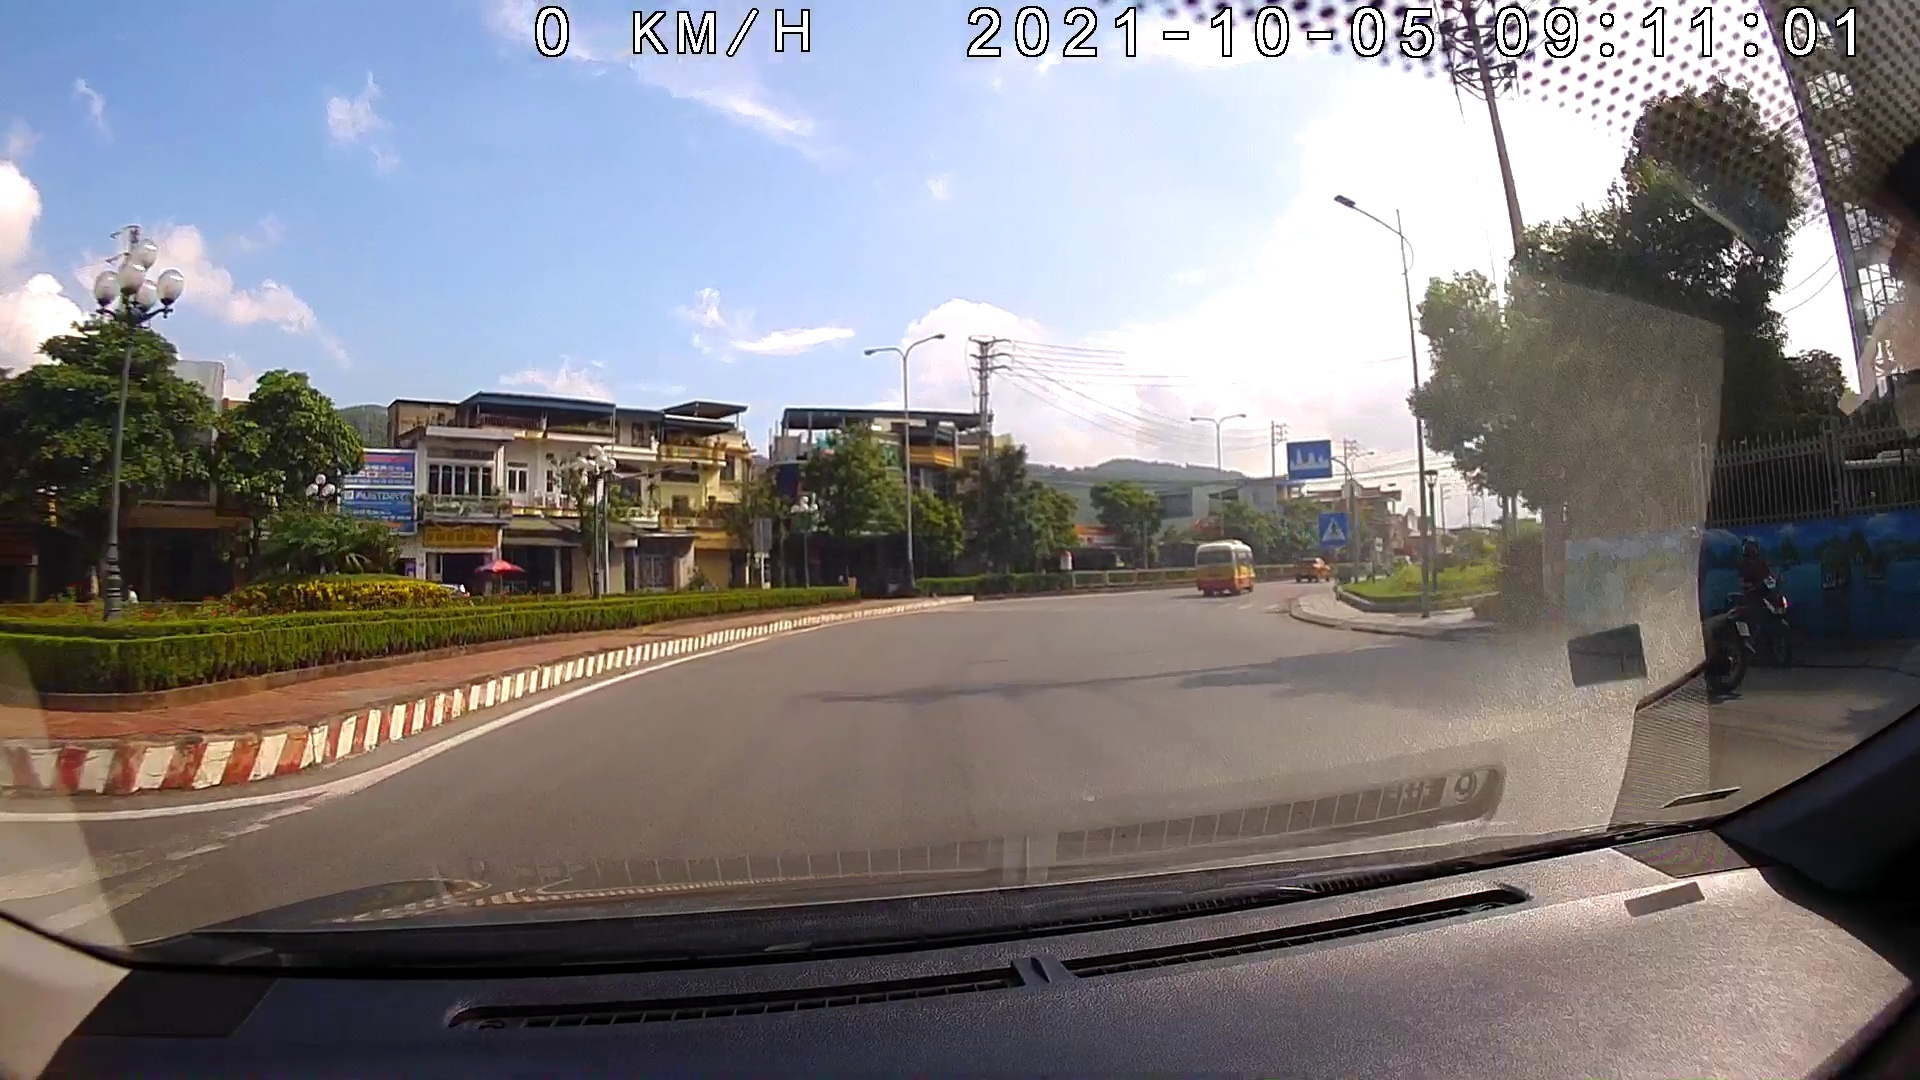Bien khac: (1286, 440, 1329, 475)
Nguoi di bo: (1315, 512, 1348, 549)
